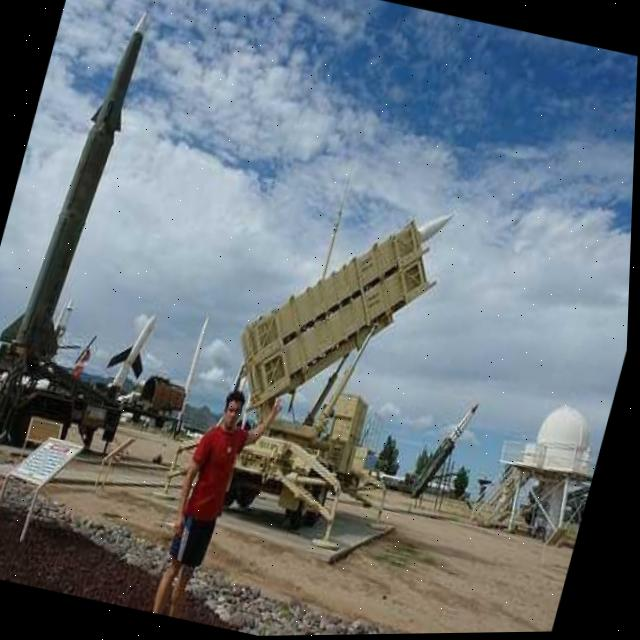missile: (0, 0, 158, 369)
